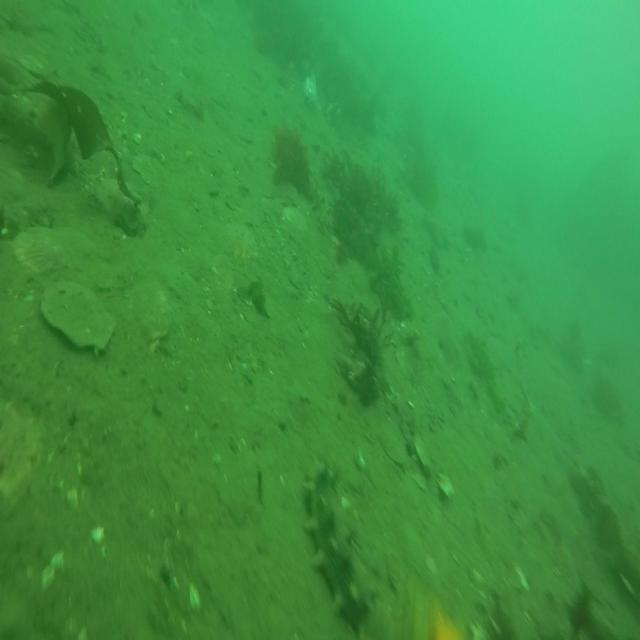holothurian: (302, 449, 372, 634)
